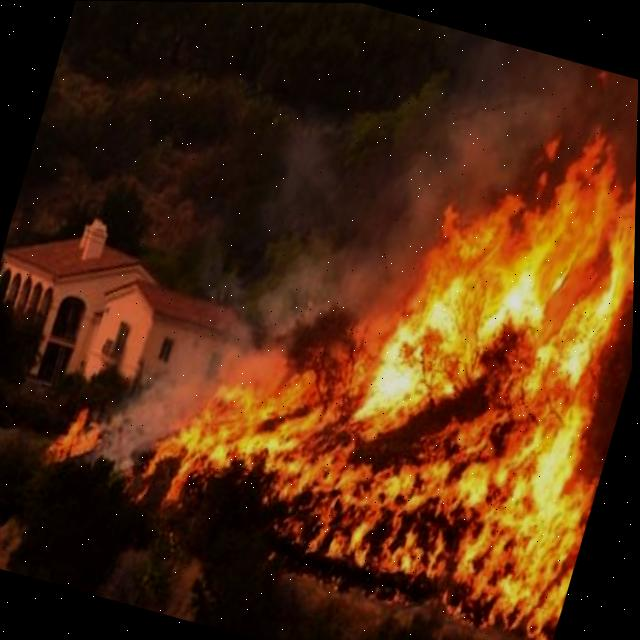fire: (144, 127, 637, 640)
smoke: (102, 50, 639, 453)
